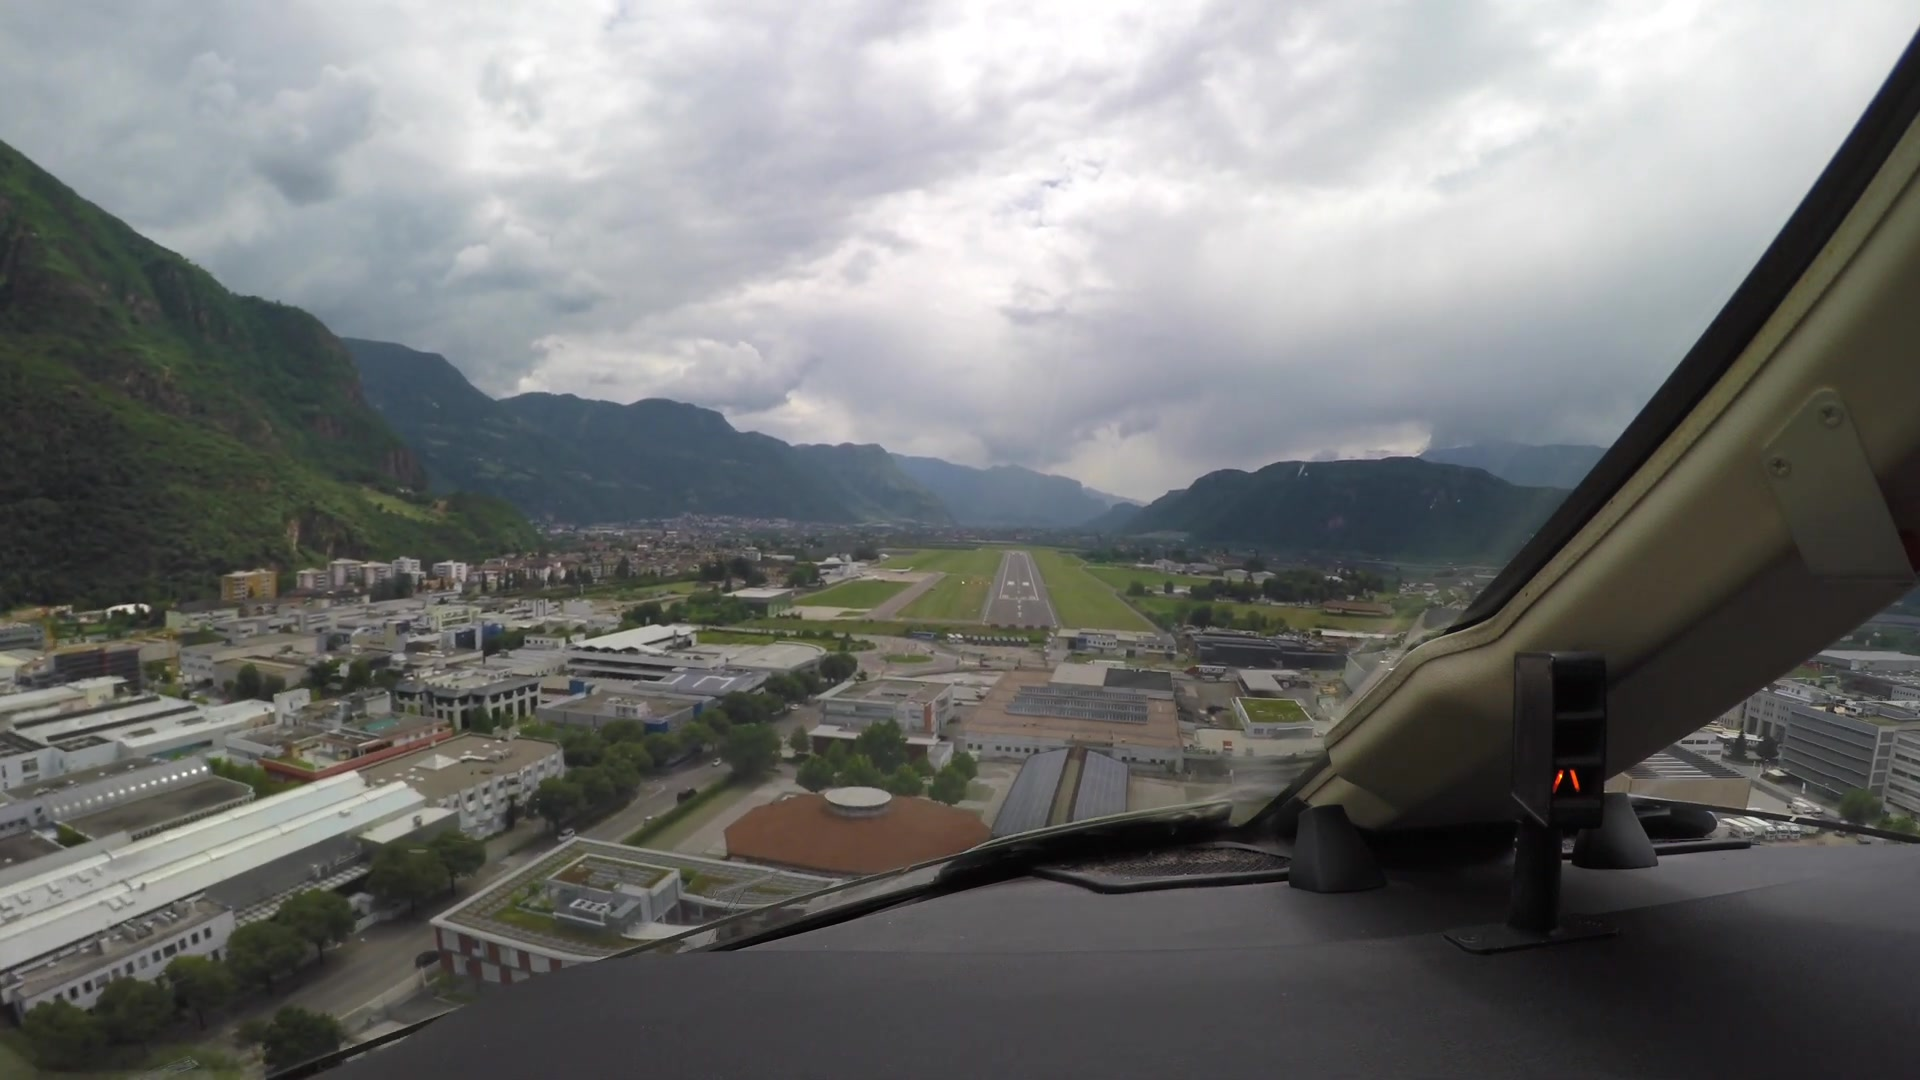entrance: (998, 593, 1036, 601)
runway: (975, 551, 1062, 630)
